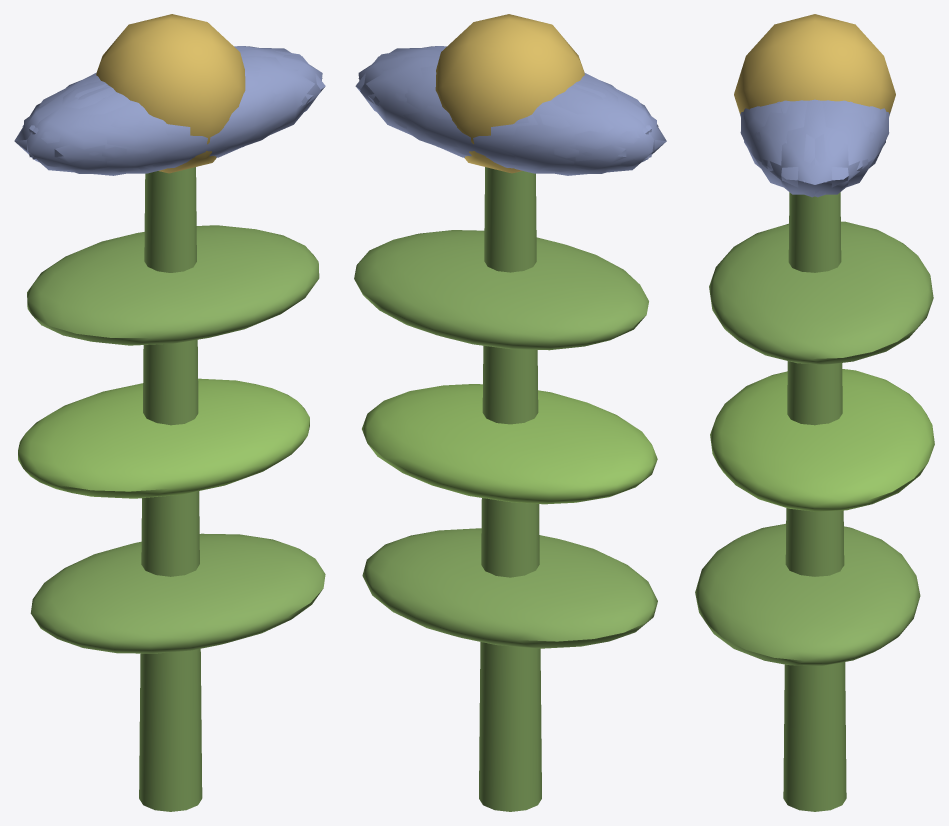
File: mikania-micrantha.glb
The picture shows the model from 3 angles, left to right: view 1: azimuth 30°, elevation 25°; view 2: azimuth 150°, elevation 25°; view 3: azimuth 270°, elevation 25°; orthographic projection.
Parts seen in each view (by area): view 1: leaf0, leaf2, leaf1, stem, center, petal6, petal2, petal1, petal5, petal7, petal0; view 2: leaf2, leaf1, leaf0, stem, center, petal3, petal7, petal8, petal4, petal2, petal0; view 3: leaf2, leaf1, leaf0, stem, center, petal0, petal4, petal5, petal1, petal8.
Part boxes in pixels (left/top/right/bottom): leaf0: left=30, top=533, right=325, bottom=653; leaf2: left=27, top=225, right=319, bottom=345; leaf1: left=18, top=378, right=309, bottom=498; stem: left=139, top=167, right=202, bottom=811; center: left=96, top=14, right=245, bottom=173; petal6: left=32, top=86, right=231, bottom=173; petal2: left=24, top=81, right=177, bottom=175; petal1: left=102, top=65, right=307, bottom=171; petal5: left=166, top=55, right=325, bottom=163; petal7: left=14, top=75, right=115, bottom=166; petal0: left=238, top=47, right=322, bottom=146; leaf2: left=354, top=230, right=648, bottom=350; leaf1: left=362, top=384, right=657, bottom=504; leaf0: left=362, top=528, right=657, bottom=648; stem: left=479, top=167, right=541, bottom=811; center: left=435, top=14, right=584, bottom=173; petal3: left=449, top=86, right=648, bottom=173; petal7: left=503, top=81, right=656, bottom=175; petal8: left=373, top=65, right=578, bottom=171; petal4: left=355, top=55, right=514, bottom=163; petal2: left=565, top=75, right=666, bottom=166; petal0: left=358, top=47, right=442, bottom=147; leaf2: left=709, top=221, right=933, bottom=364; leaf1: left=710, top=369, right=934, bottom=511; leaf0: left=695, top=523, right=920, bottom=666; stem: left=783, top=192, right=846, bottom=811; center: left=734, top=14, right=895, bottom=113; petal0: left=755, top=99, right=874, bottom=194; petal4: left=803, top=100, right=885, bottom=197; petal5: left=744, top=100, right=826, bottom=197; petal1: left=740, top=100, right=791, bottom=168; petal8: left=838, top=100, right=889, bottom=168.
Bounding box in the file's own units: 0.1541 × 0.3806 × 0.1064.
